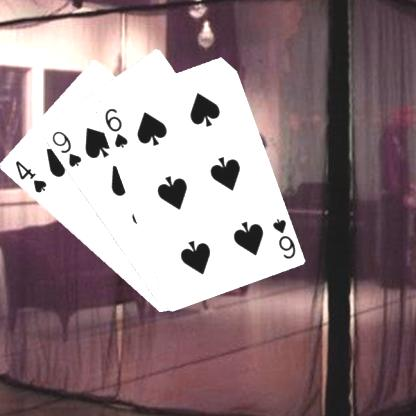4S: (12, 158, 48, 194)
6S: (101, 105, 129, 150), (269, 216, 297, 260)
9S: (48, 128, 83, 169)
